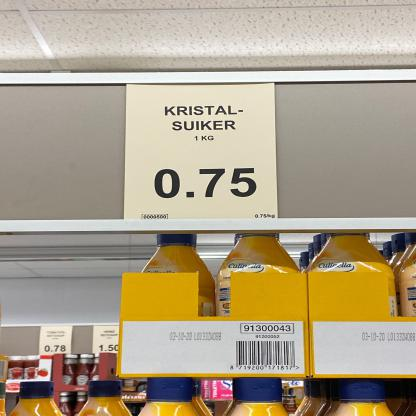prtg: (124, 83, 279, 221)
